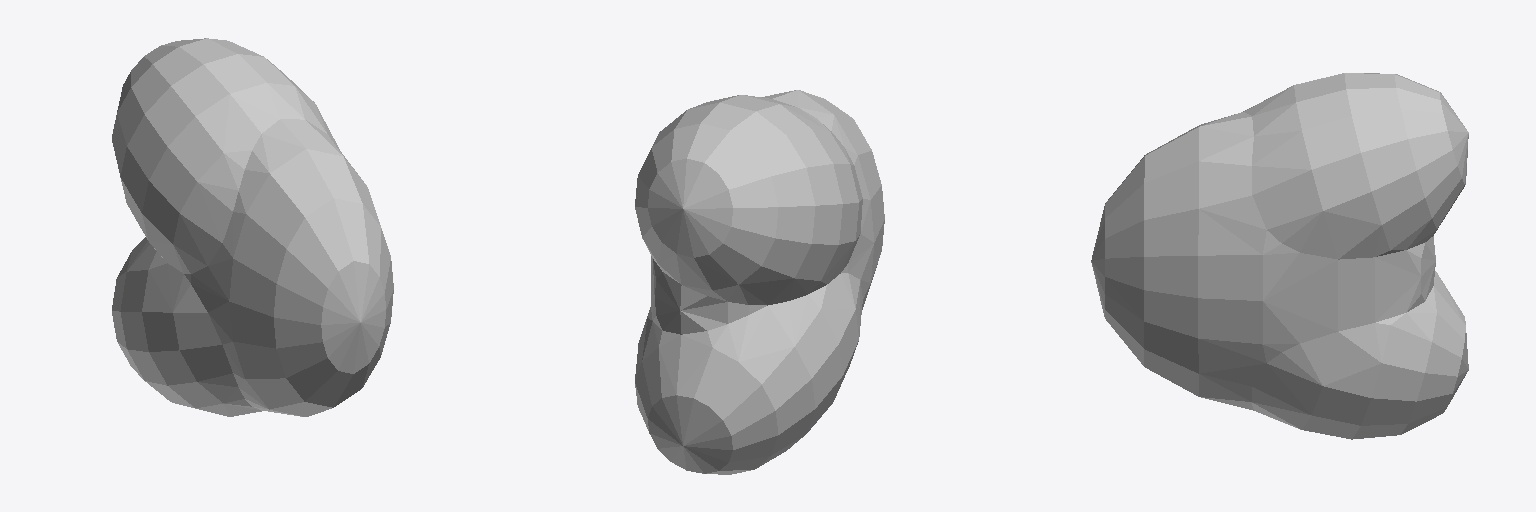
Rendered from HIP.obj.
3 renders of one model, left to right at view 1: azimuth 30°, elevation 25°; view 2: azimuth 150°, elevation 25°; view 3: azimuth 270°, elevation 25°, orthographic.
Visible parts, largest first — view 1: object; view 2: object; view 3: object.
Boxes of the visible parts, x1=… form: object: x1=112, y1=38, x2=393, y2=416; object: x1=635, y1=90, x2=884, y2=474; object: x1=1091, y1=73, x2=1468, y2=439.
Size of the model in its own units: 0.1872 by 0.3362 by 0.3305.